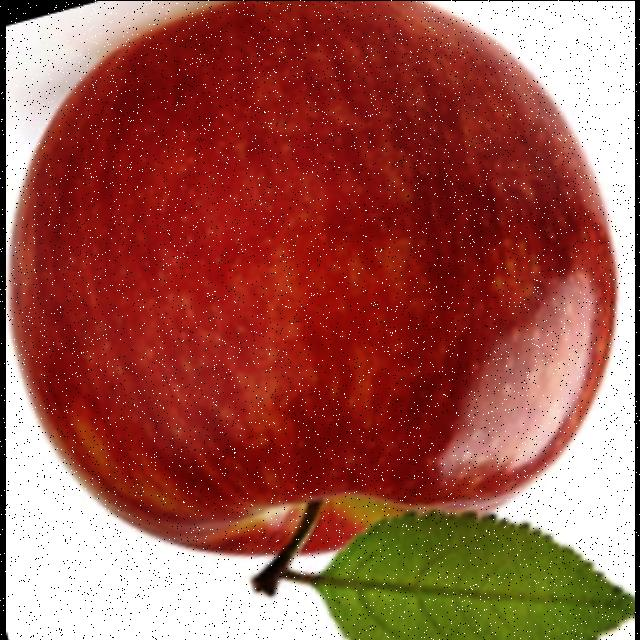Apel Segar: (8, 0, 624, 554)
